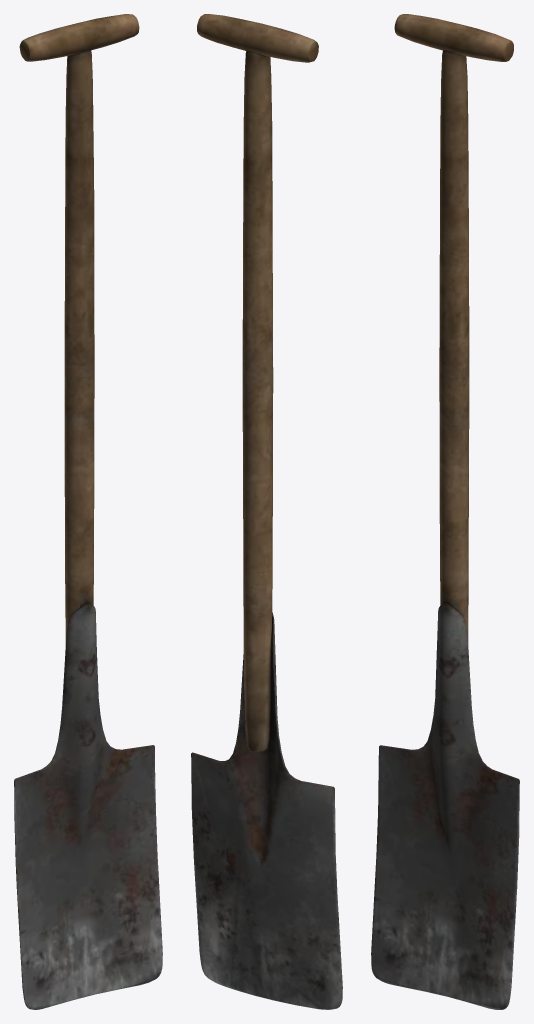
The model's file is rusted_spade_01.glb.
The picture shows the model from 3 angles, left to right: view 1: azimuth 30°, elevation 25°; view 2: azimuth 150°, elevation 25°; view 3: azimuth 330°, elevation 25°; orthographic projection. The views are drawn at different scales.
Parts seen in each view (by area): view 1: rusted_spade_01; view 2: rusted_spade_01; view 3: rusted_spade_01.
Boxes of the visible parts, x1,y1,x2,y2 form: rusted_spade_01: (14, 14, 162, 1009); rusted_spade_01: (191, 14, 342, 1009); rusted_spade_01: (371, 14, 519, 1009).
Bounding box in the file's own units: 0.1681 × 1.1 × 0.0453.
1 material, 1 textured.
